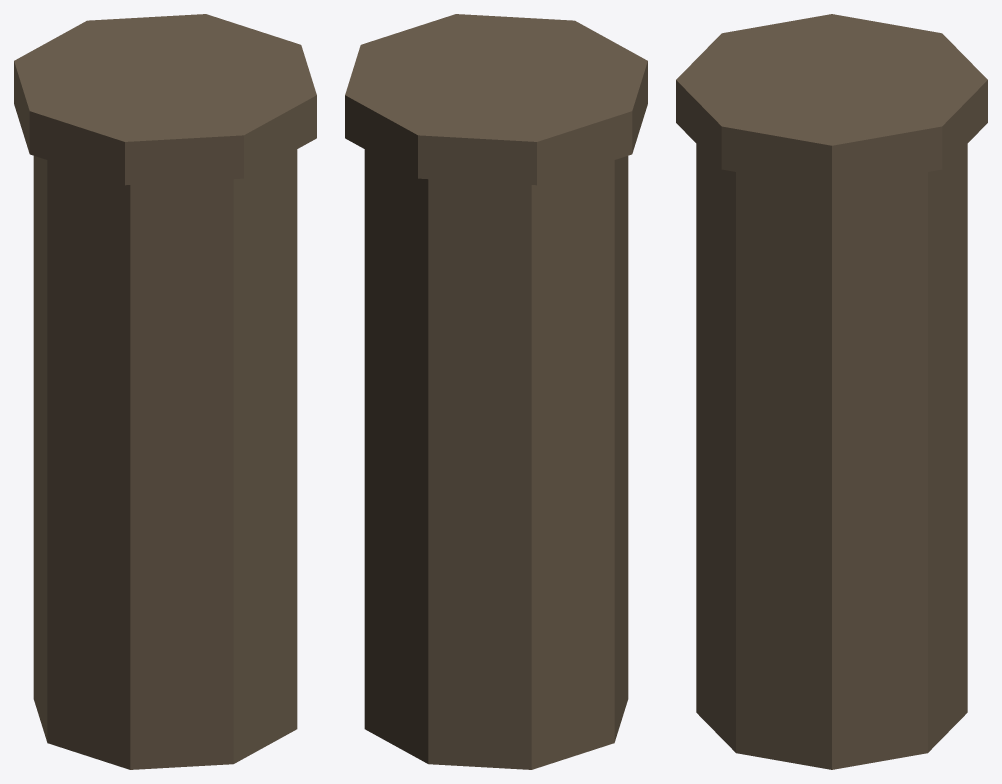
The model's file is terrain-soil-pillar.lod0.glb.
The picture shows the model from 3 angles, left to right: view 1: azimuth 30°, elevation 25°; view 2: azimuth 150°, elevation 25°; view 3: azimuth 270°, elevation 25°; orthographic projection.
Visible parts, largest first — view 1: terrain-soil-pillar__body; view 2: terrain-soil-pillar__body; view 3: terrain-soil-pillar__body.
Part boxes in pixels (box(x1,y1,x2,y2)): terrain-soil-pillar__body: box(14, 14, 316, 769); terrain-soil-pillar__body: box(345, 14, 647, 769); terrain-soil-pillar__body: box(676, 14, 987, 769).
Size of the model in its own units: 0.92 by 2.06 by 0.92.
